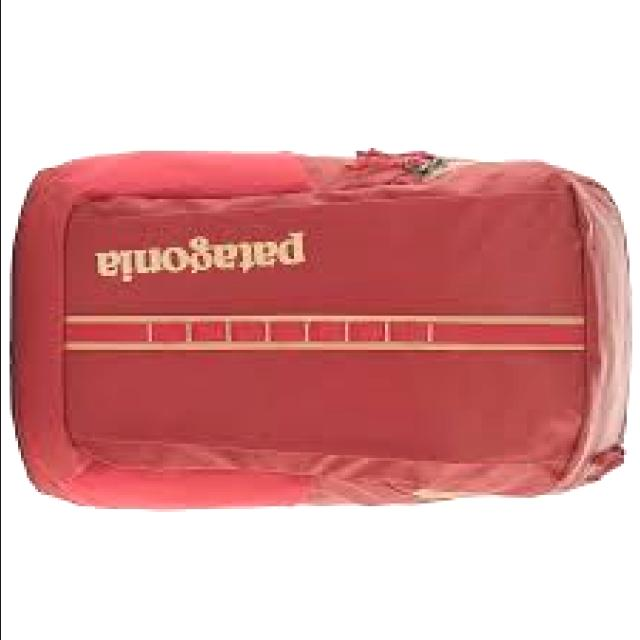backpack: (13, 146, 636, 510)
